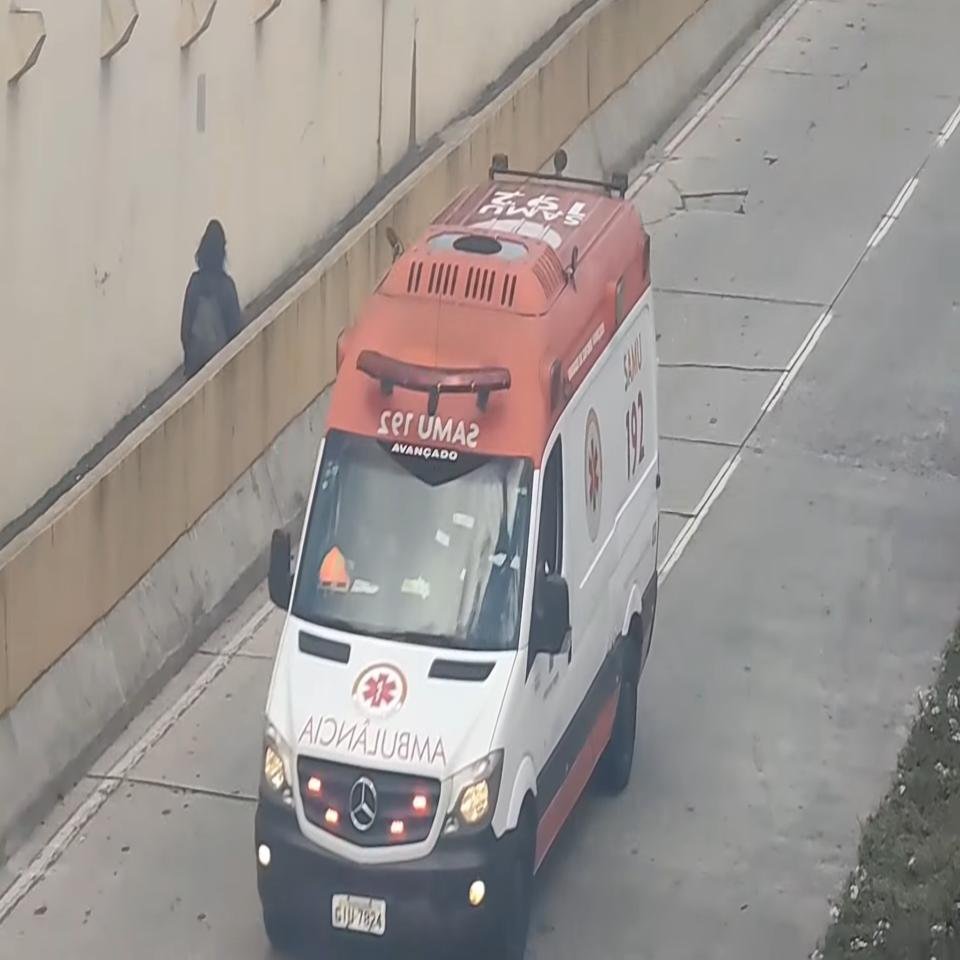bombeiro: (254, 146, 661, 960)
